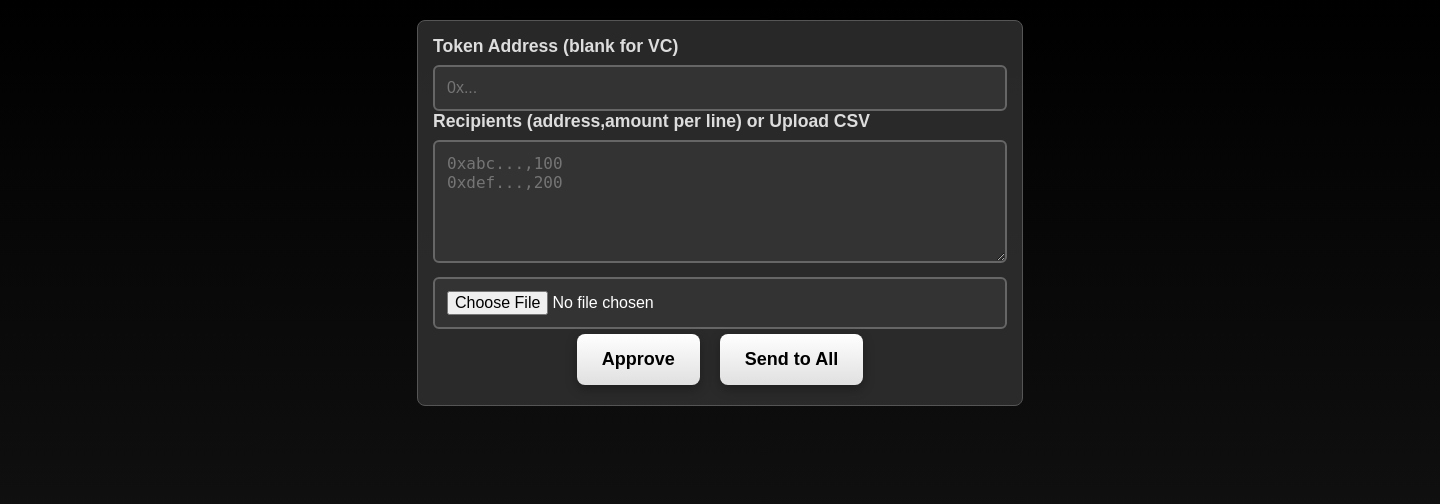
Scenario: TokenSender › disables send button when not connected
Click the button "Send to All". click: (791, 360)
box: [720,334,863,385]
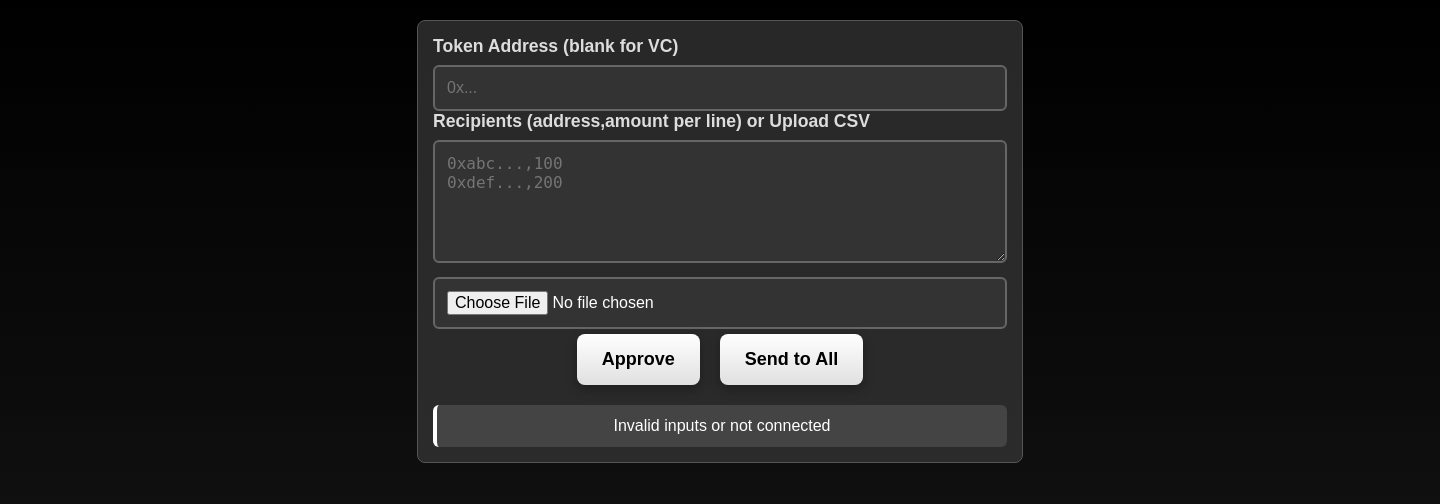
Expected: the text "Invalid inputs or not connected" is shown, [433,405,1007,447]
